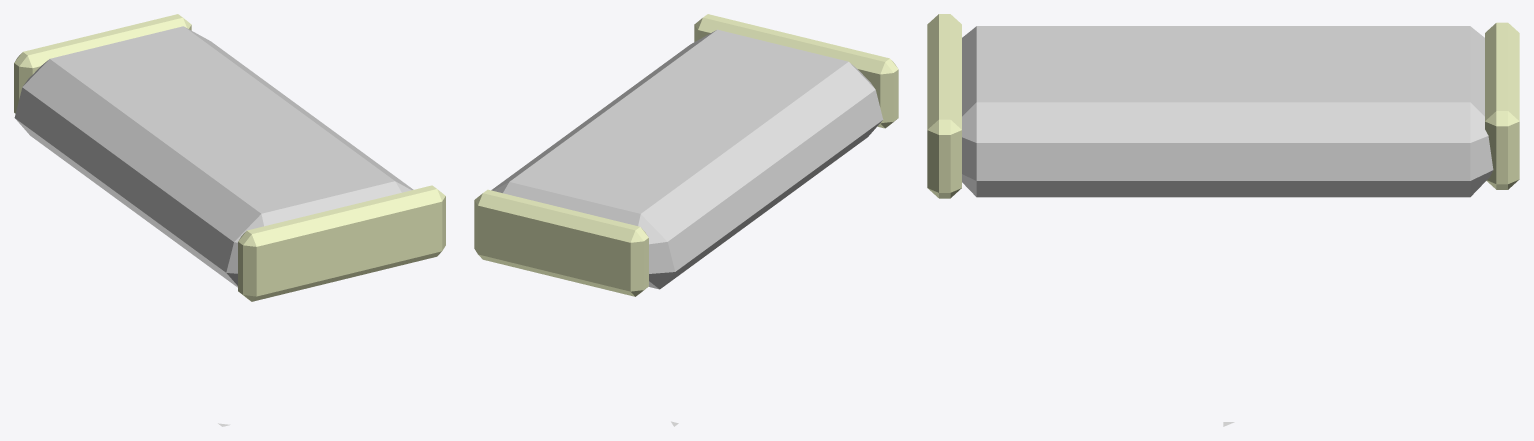
Rendered from fx_clip_a.glb.
The picture shows the model from 3 angles, left to right: view 1: azimuth 30°, elevation 25°; view 2: azimuth 150°, elevation 25°; view 3: azimuth 270°, elevation 25°; orthographic projection. The views are drawn at different scales.
Visible parts, largest first — view 1: SmoothPlastic__FFFFFF, SmoothPlastic__EEF4C4; view 2: SmoothPlastic__FFFFFF, SmoothPlastic__EEF4C4; view 3: SmoothPlastic__FFFFFF, SmoothPlastic__EEF4C4.
Boxes of the visible parts, x1=… form: SmoothPlastic__FFFFFF: x1=14, y1=26, x2=413, y2=287; SmoothPlastic__EEF4C4: x1=14, y1=14, x2=445, y2=301; SmoothPlastic__FFFFFF: x1=491, y1=29, x2=883, y2=289; SmoothPlastic__EEF4C4: x1=474, y1=14, x2=898, y2=296; SmoothPlastic__FFFFFF: x1=962, y1=26, x2=1493, y2=197; SmoothPlastic__EEF4C4: x1=927, y1=14, x2=1519, y2=198.
Size of the model in its own units: 0.4729 by 0.68 by 1.02.
